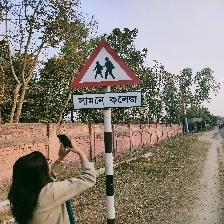College-in-front: (59, 46, 164, 139)
